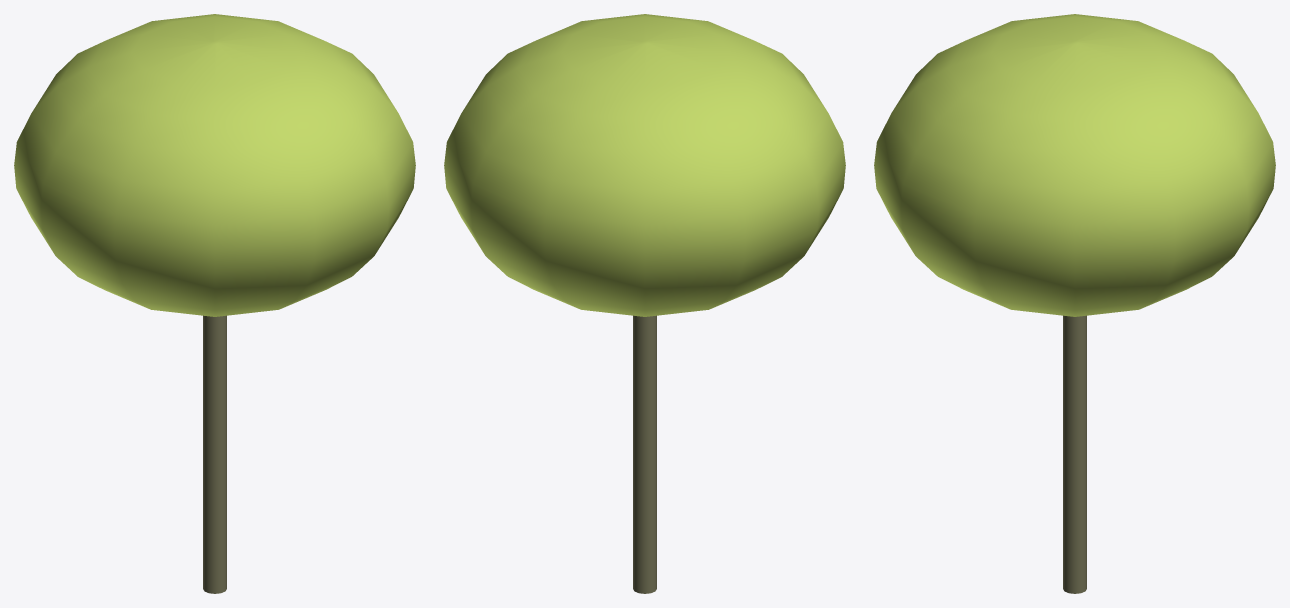
File: Banana_Tree_Analytical_0.obj
3 renders of one model, left to right at view 1: azimuth 30°, elevation 25°; view 2: azimuth 150°, elevation 25°; view 3: azimuth 270°, elevation 25°, orthographic.
Visible parts, largest first — view 1: AnalyticalCrown, AnalyticalTrunk; view 2: AnalyticalCrown, AnalyticalTrunk; view 3: AnalyticalCrown, AnalyticalTrunk.
Part boxes in pixels (x1,y1,x2,y2): AnalyticalCrown: [14, 14, 415, 316]; AnalyticalTrunk: [203, 315, 226, 593]; AnalyticalCrown: [444, 14, 845, 316]; AnalyticalTrunk: [633, 315, 656, 593]; AnalyticalCrown: [874, 14, 1275, 316]; AnalyticalTrunk: [1063, 315, 1086, 593].
Bounding box in the file's own units: 3 × 4.5 × 3.
